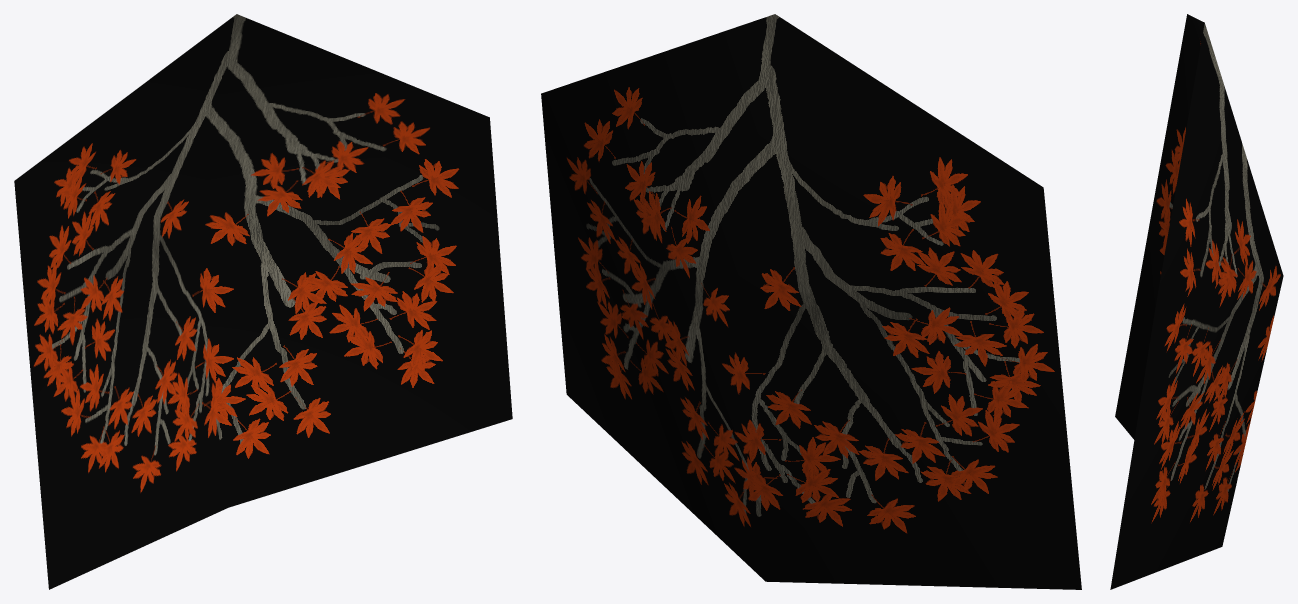
The model's file is LeafMesh19.fbx.
3 views of the same model, side by side, from view 1: azimuth 30°, elevation 25°; view 2: azimuth 150°, elevation 25°; view 3: azimuth 270°, elevation 25° (orthographic). The views are drawn at different scales.
Parts seen in each view (by area): view 1: LeafMesh1; view 2: LeafMesh1; view 3: LeafMesh1.
Part boxes in pixels (left/top/right/bottom): LeafMesh1: left=14, top=14, right=512, bottom=589; LeafMesh1: left=541, top=14, right=1081, bottom=589; LeafMesh1: left=1110, top=14, right=1283, bottom=589.
Size of the model in its own units: 2 by 2.07 by 0.6195.
